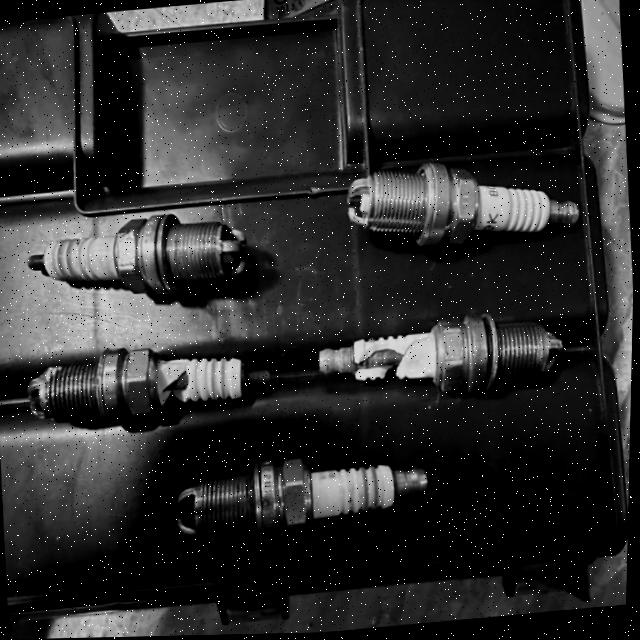damaged_spark-plug: (21, 331, 283, 439), (313, 304, 571, 411)
spark-plug: (337, 148, 586, 266), (174, 449, 440, 549), (28, 206, 250, 308)
